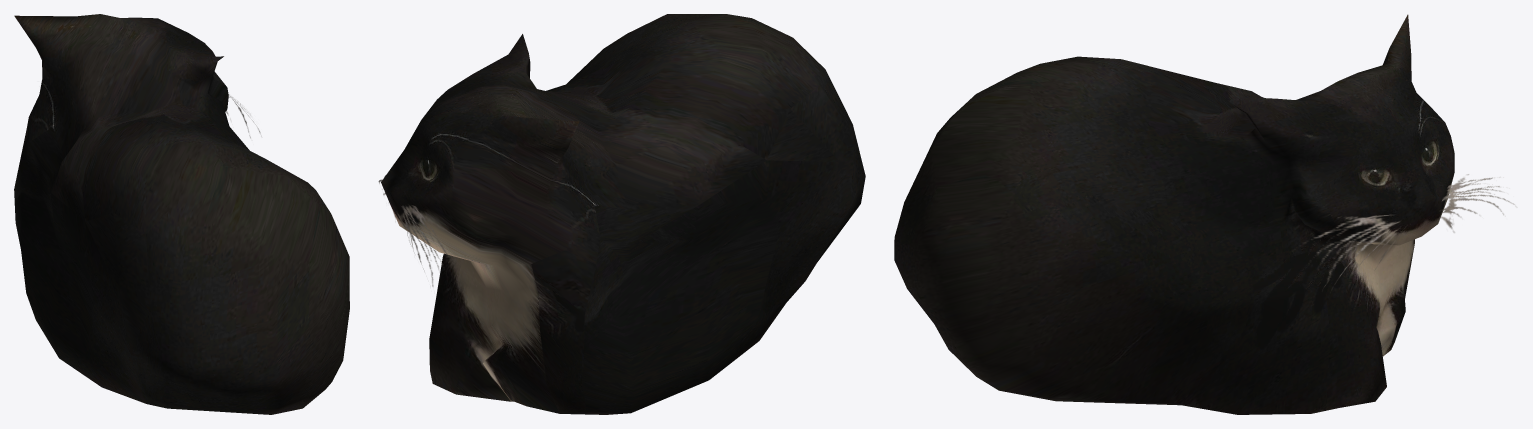
The picture shows the model from 3 angles, left to right: view 1: azimuth 30°, elevation 25°; view 2: azimuth 150°, elevation 25°; view 3: azimuth 270°, elevation 25°; orthographic projection. The views are drawn at different scales.
Parts seen in each view (by area): view 1: Maxwell_0; view 2: Maxwell_0; view 3: Maxwell_0.
Part boxes in pixels (x1,y1,x2,y2): Maxwell_0: (14, 14, 349, 414); Maxwell_0: (378, 14, 865, 414); Maxwell_0: (894, 14, 1514, 414).
Bounding box in the file's own units: 1.04 × 1.07 × 1.85.
Materials: 2 (2 with a texture image).
